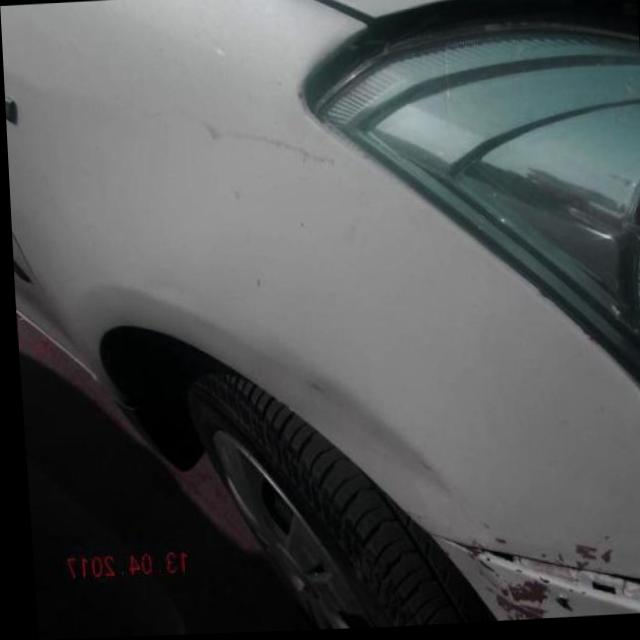Car-Damage: (447, 540, 640, 625), (195, 113, 334, 188), (476, 573, 545, 624), (563, 540, 611, 579), (452, 538, 503, 570)
